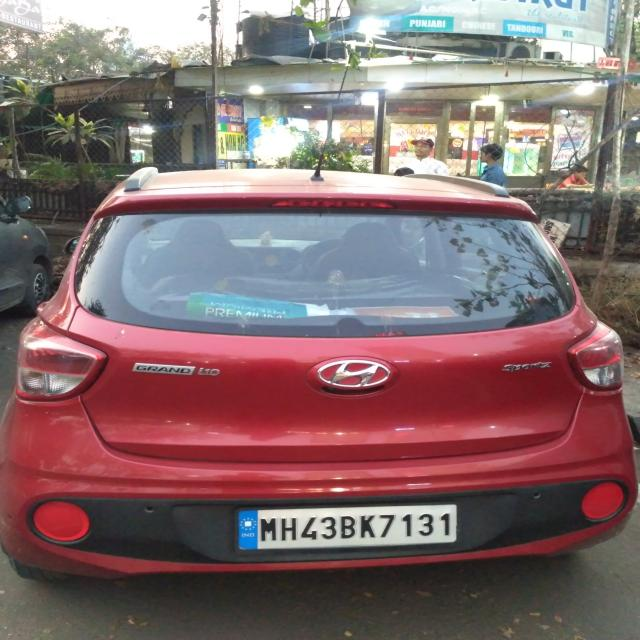Number-Plate: (241, 504, 461, 548)
